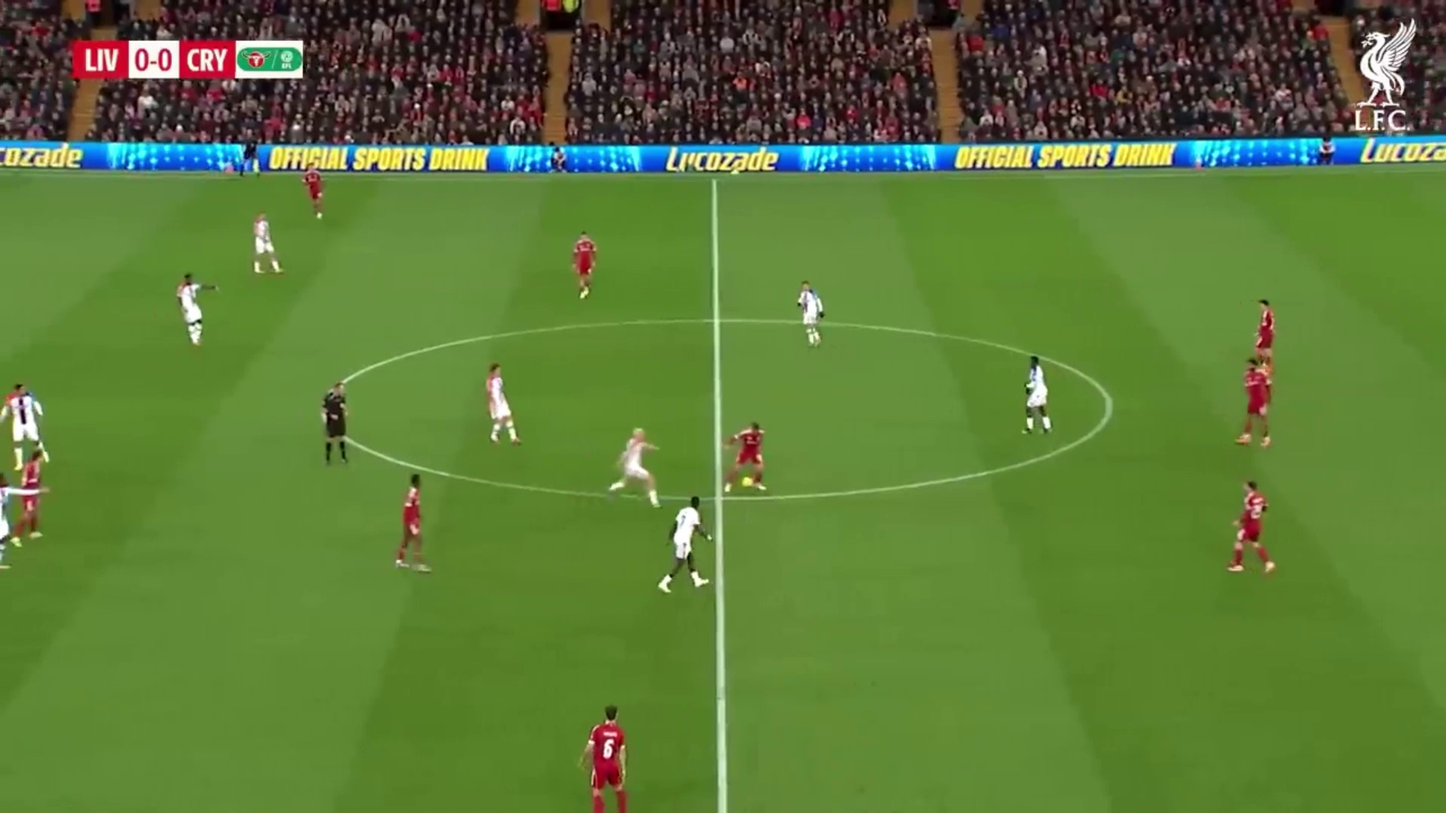player: (2, 383, 47, 541), (1, 382, 47, 496), (582, 705, 629, 813), (657, 495, 705, 592), (1228, 481, 1275, 575), (1245, 299, 1277, 433), (607, 427, 660, 506), (5, 445, 46, 545), (1234, 356, 1273, 449), (178, 272, 218, 350), (395, 479, 429, 570), (485, 361, 521, 445), (726, 422, 767, 494), (321, 384, 351, 467), (1023, 354, 1051, 436), (251, 212, 284, 278), (177, 272, 205, 349), (570, 233, 598, 303), (798, 281, 823, 350), (303, 165, 327, 221)
